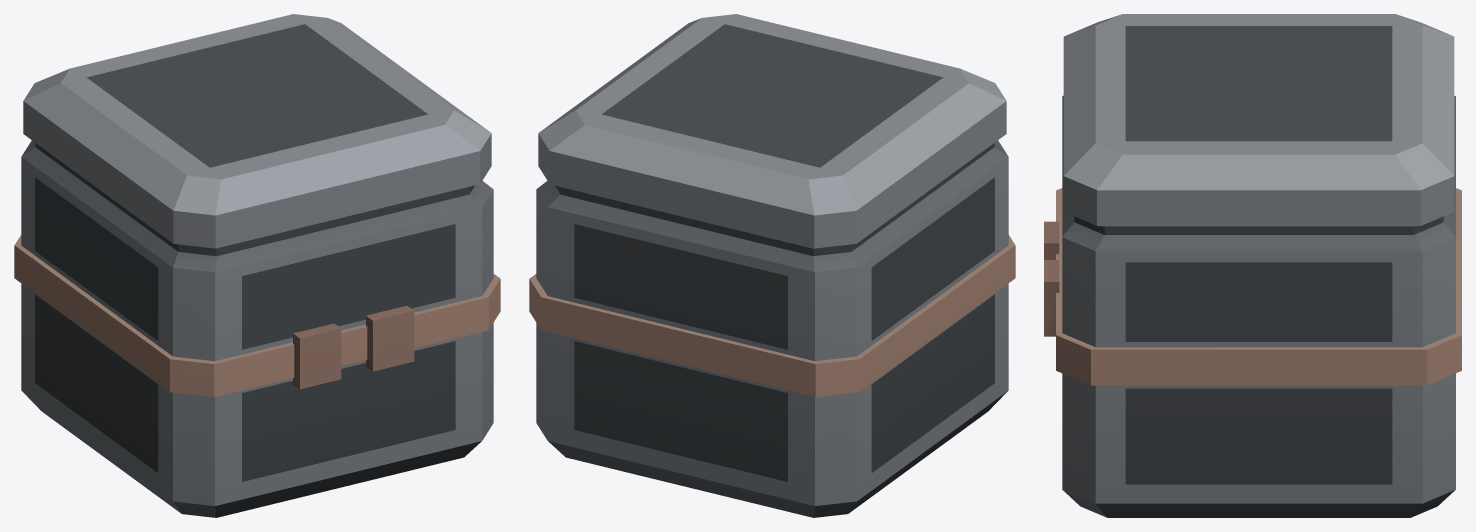
File: crate.lod2.glb
3 renders of one model, left to right at view 1: azimuth 30°, elevation 25°; view 2: azimuth 150°, elevation 25°; view 3: azimuth 270°, elevation 25°, orthographic. The views are drawn at different scales.
Bounding box in the file's own units: 1.36 × 1.3 × 1.38.
